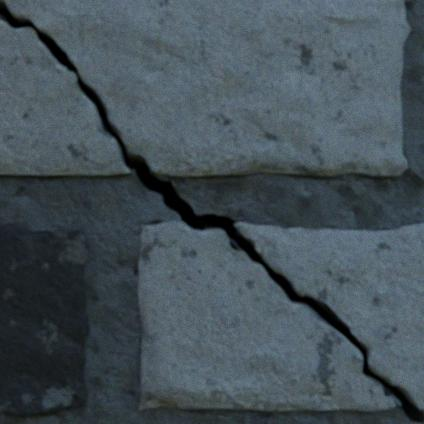brick: (0, 227, 91, 415)
broken_brick: (0, 0, 409, 176), (138, 221, 398, 410), (234, 222, 423, 408), (0, 21, 134, 175)
crack: (0, 1, 423, 423)
